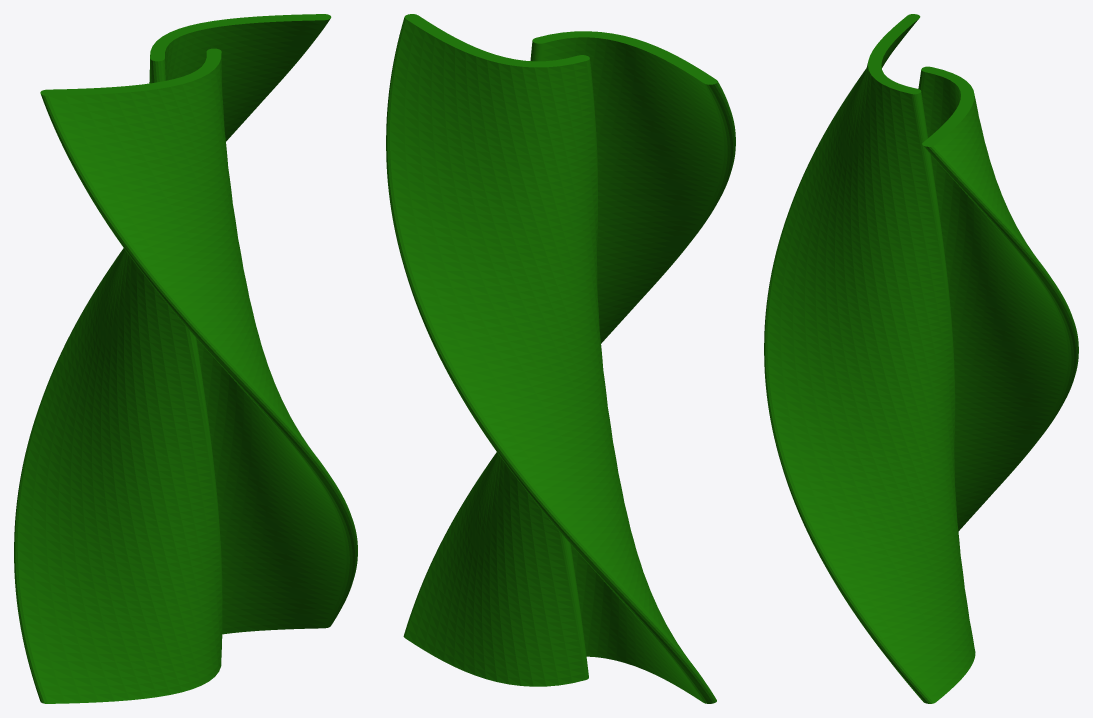
File: turbine.stl.glb
3 renders of one model, left to right at view 1: azimuth 30°, elevation 25°; view 2: azimuth 150°, elevation 25°; view 3: azimuth 270°, elevation 25°, orthographic. The views are drawn at different scales.
Parts seen in each view (by area): view 1: Turbine; view 2: Turbine; view 3: Turbine.
Boxes of the visible parts, x1,y1,x2,y2 form: Turbine: (14,14,357,703); Turbine: (386,14,735,703); Turbine: (764,14,1078,703).
Size of the model in its own units: 92.27 by 180 by 92.2.
